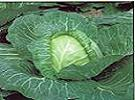cabbage: (0, 8, 134, 99)
